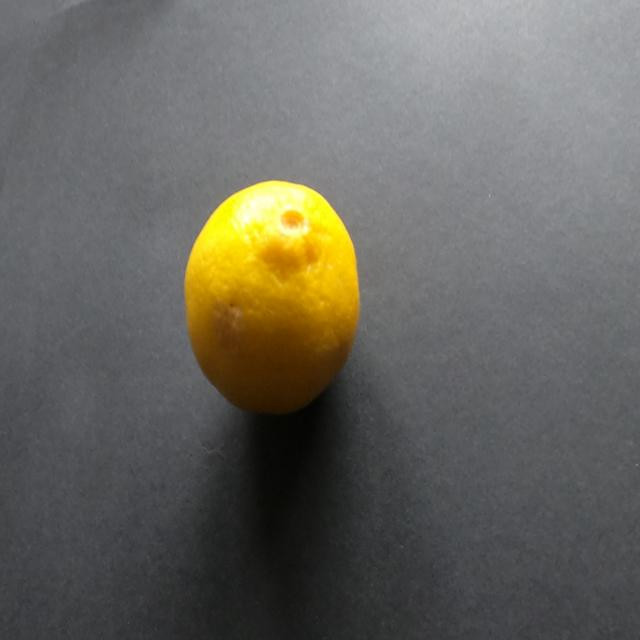Lemon: (158, 154, 376, 450)
